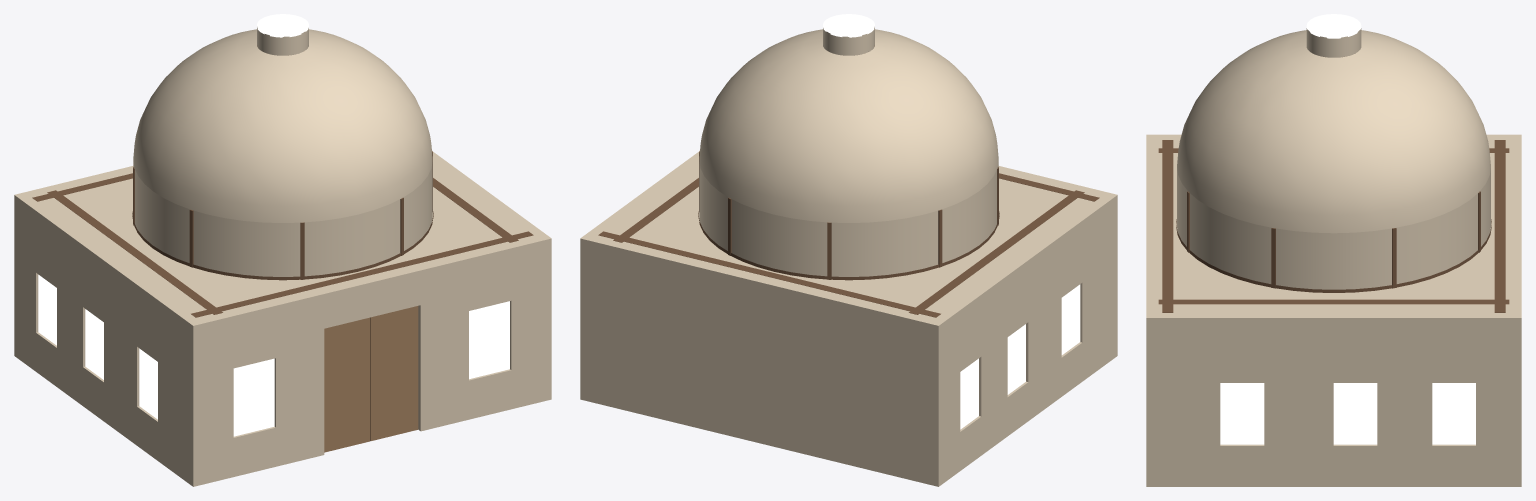
Rendered from workshop.glb.
3 renders of one model, left to right at view 1: azimuth 30°, elevation 25°; view 2: azimuth 150°, elevation 25°; view 3: azimuth 270°, elevation 25°, orthographic. The views are drawn at different scales.
Visible parts, largest first — view 1: WI_Room, WI_Oculus; view 2: WI_Room, WI_Oculus; view 3: WI_Room, WI_Oculus.
Boxes of the visible parts, x1,y1,x2,y2 form: WI_Room: (14,27,551,486); WI_Oculus: (257,14,308,37); WI_Room: (580,27,1117,486); WI_Oculus: (823,14,874,37); WI_Room: (1146,28,1521,486); WI_Oculus: (1306,14,1361,38).
Bounding box in the file's own units: 11.88 × 11.25 × 10.28.
